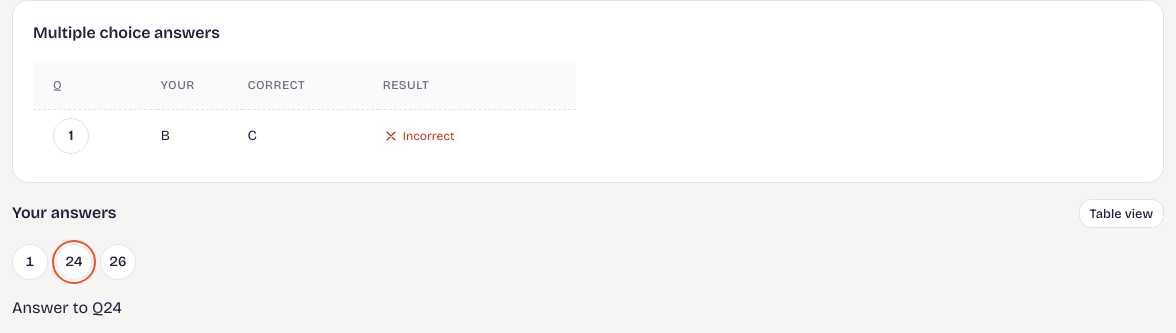
preserves question numbering and opens a question from the MC grid
The width and height of the screenshot is (1176, 333).
Expected: the text "Answer to Q24" is shown, [12, 298, 122, 317]
Expected: the button named "Question 26, 2 / 4 marks" is shown, [100, 244, 136, 280]
Click the button named "Review question 1".
click(71, 136)  # box [53, 118, 89, 154]
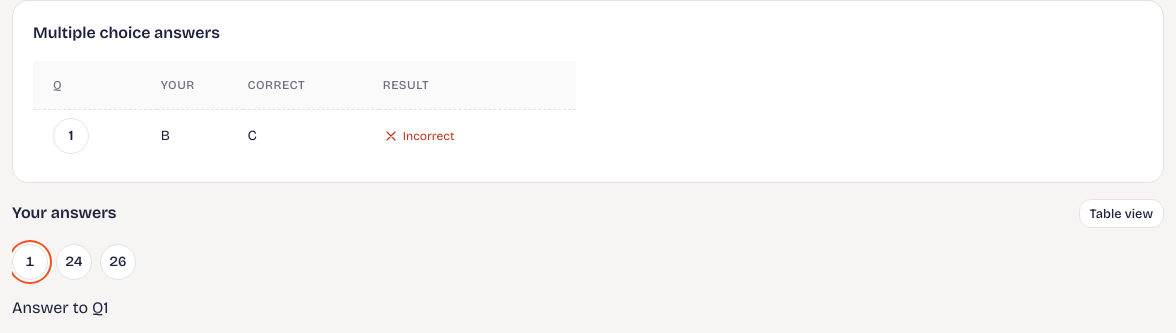
Result: the text "Answer to Q1" is shown at [12, 298, 108, 317]
